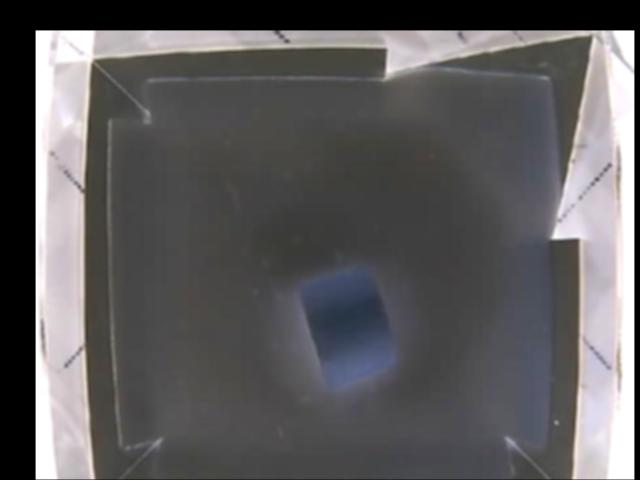Mooli: (295, 264, 393, 384)
